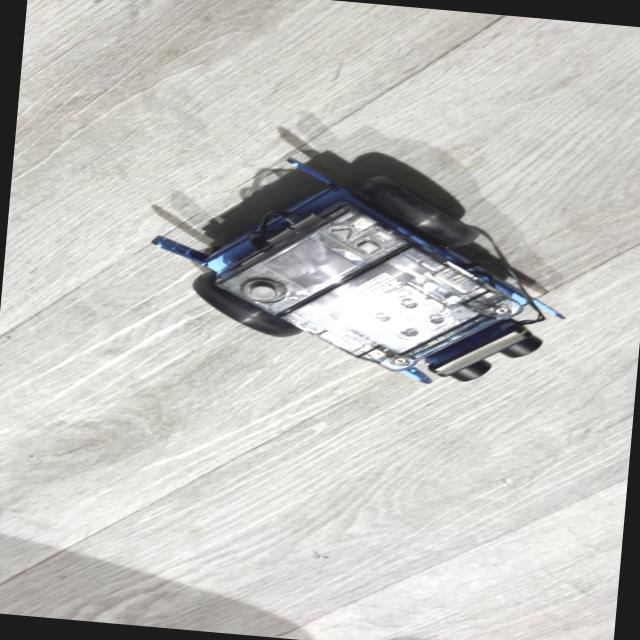mbot-detection: (126, 136, 581, 402)
